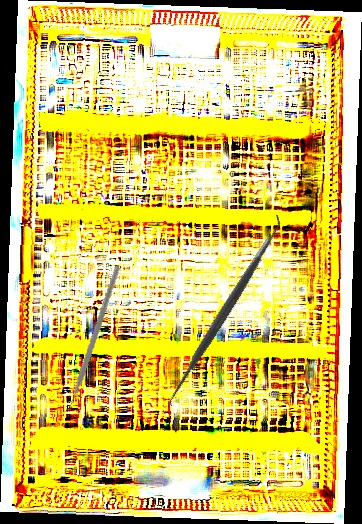Chopper: (27, 265, 149, 415)
Spatula Surgical: (157, 212, 293, 410), (185, 238, 276, 370)
